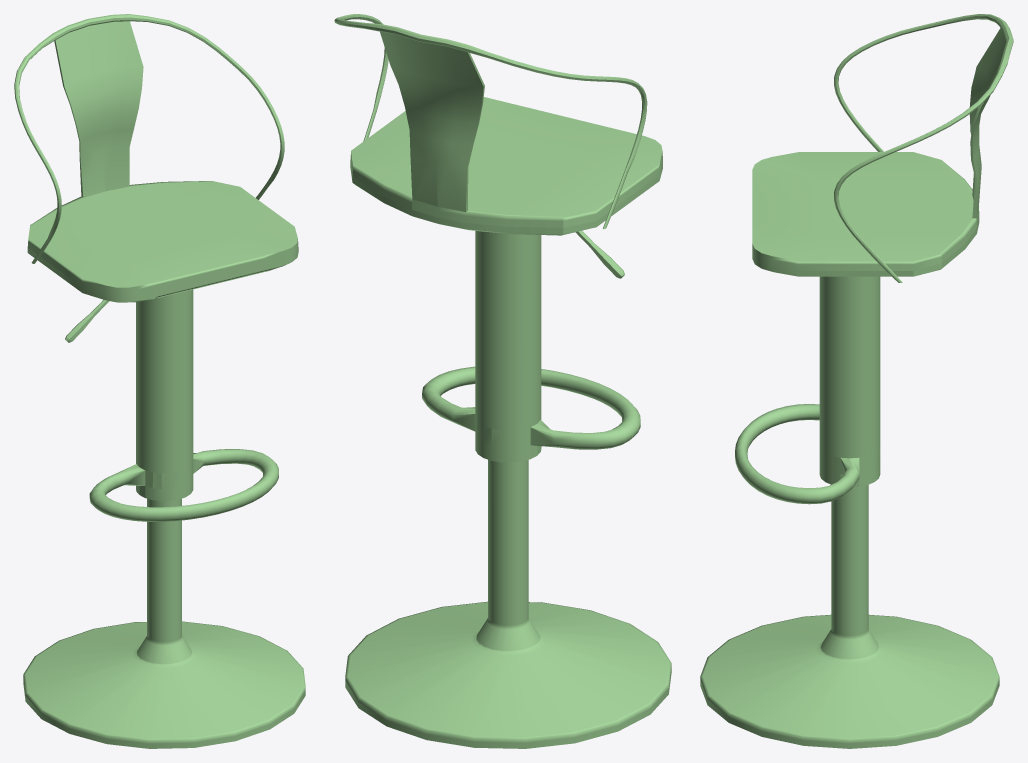
File: LobbyChairs.fbx
The picture shows the model from 3 angles, left to right: view 1: azimuth 30°, elevation 25°; view 2: azimuth 150°, elevation 25°; view 3: azimuth 270°, elevation 25°; orthographic projection. The views are drawn at different scales.
Parts seen in each view (by area): view 1: LobbyChairs01_Chair; view 2: LobbyChairs01_Chair; view 3: LobbyChairs01_Chair.
Part boxes in pixels (x1,y1,x2,y2): LobbyChairs01_Chair: (14, 14, 305, 748); LobbyChairs01_Chair: (334, 14, 671, 748); LobbyChairs01_Chair: (700, 14, 1013, 748).
Size of the model in its own units: 45.4 by 108 by 47.54.
